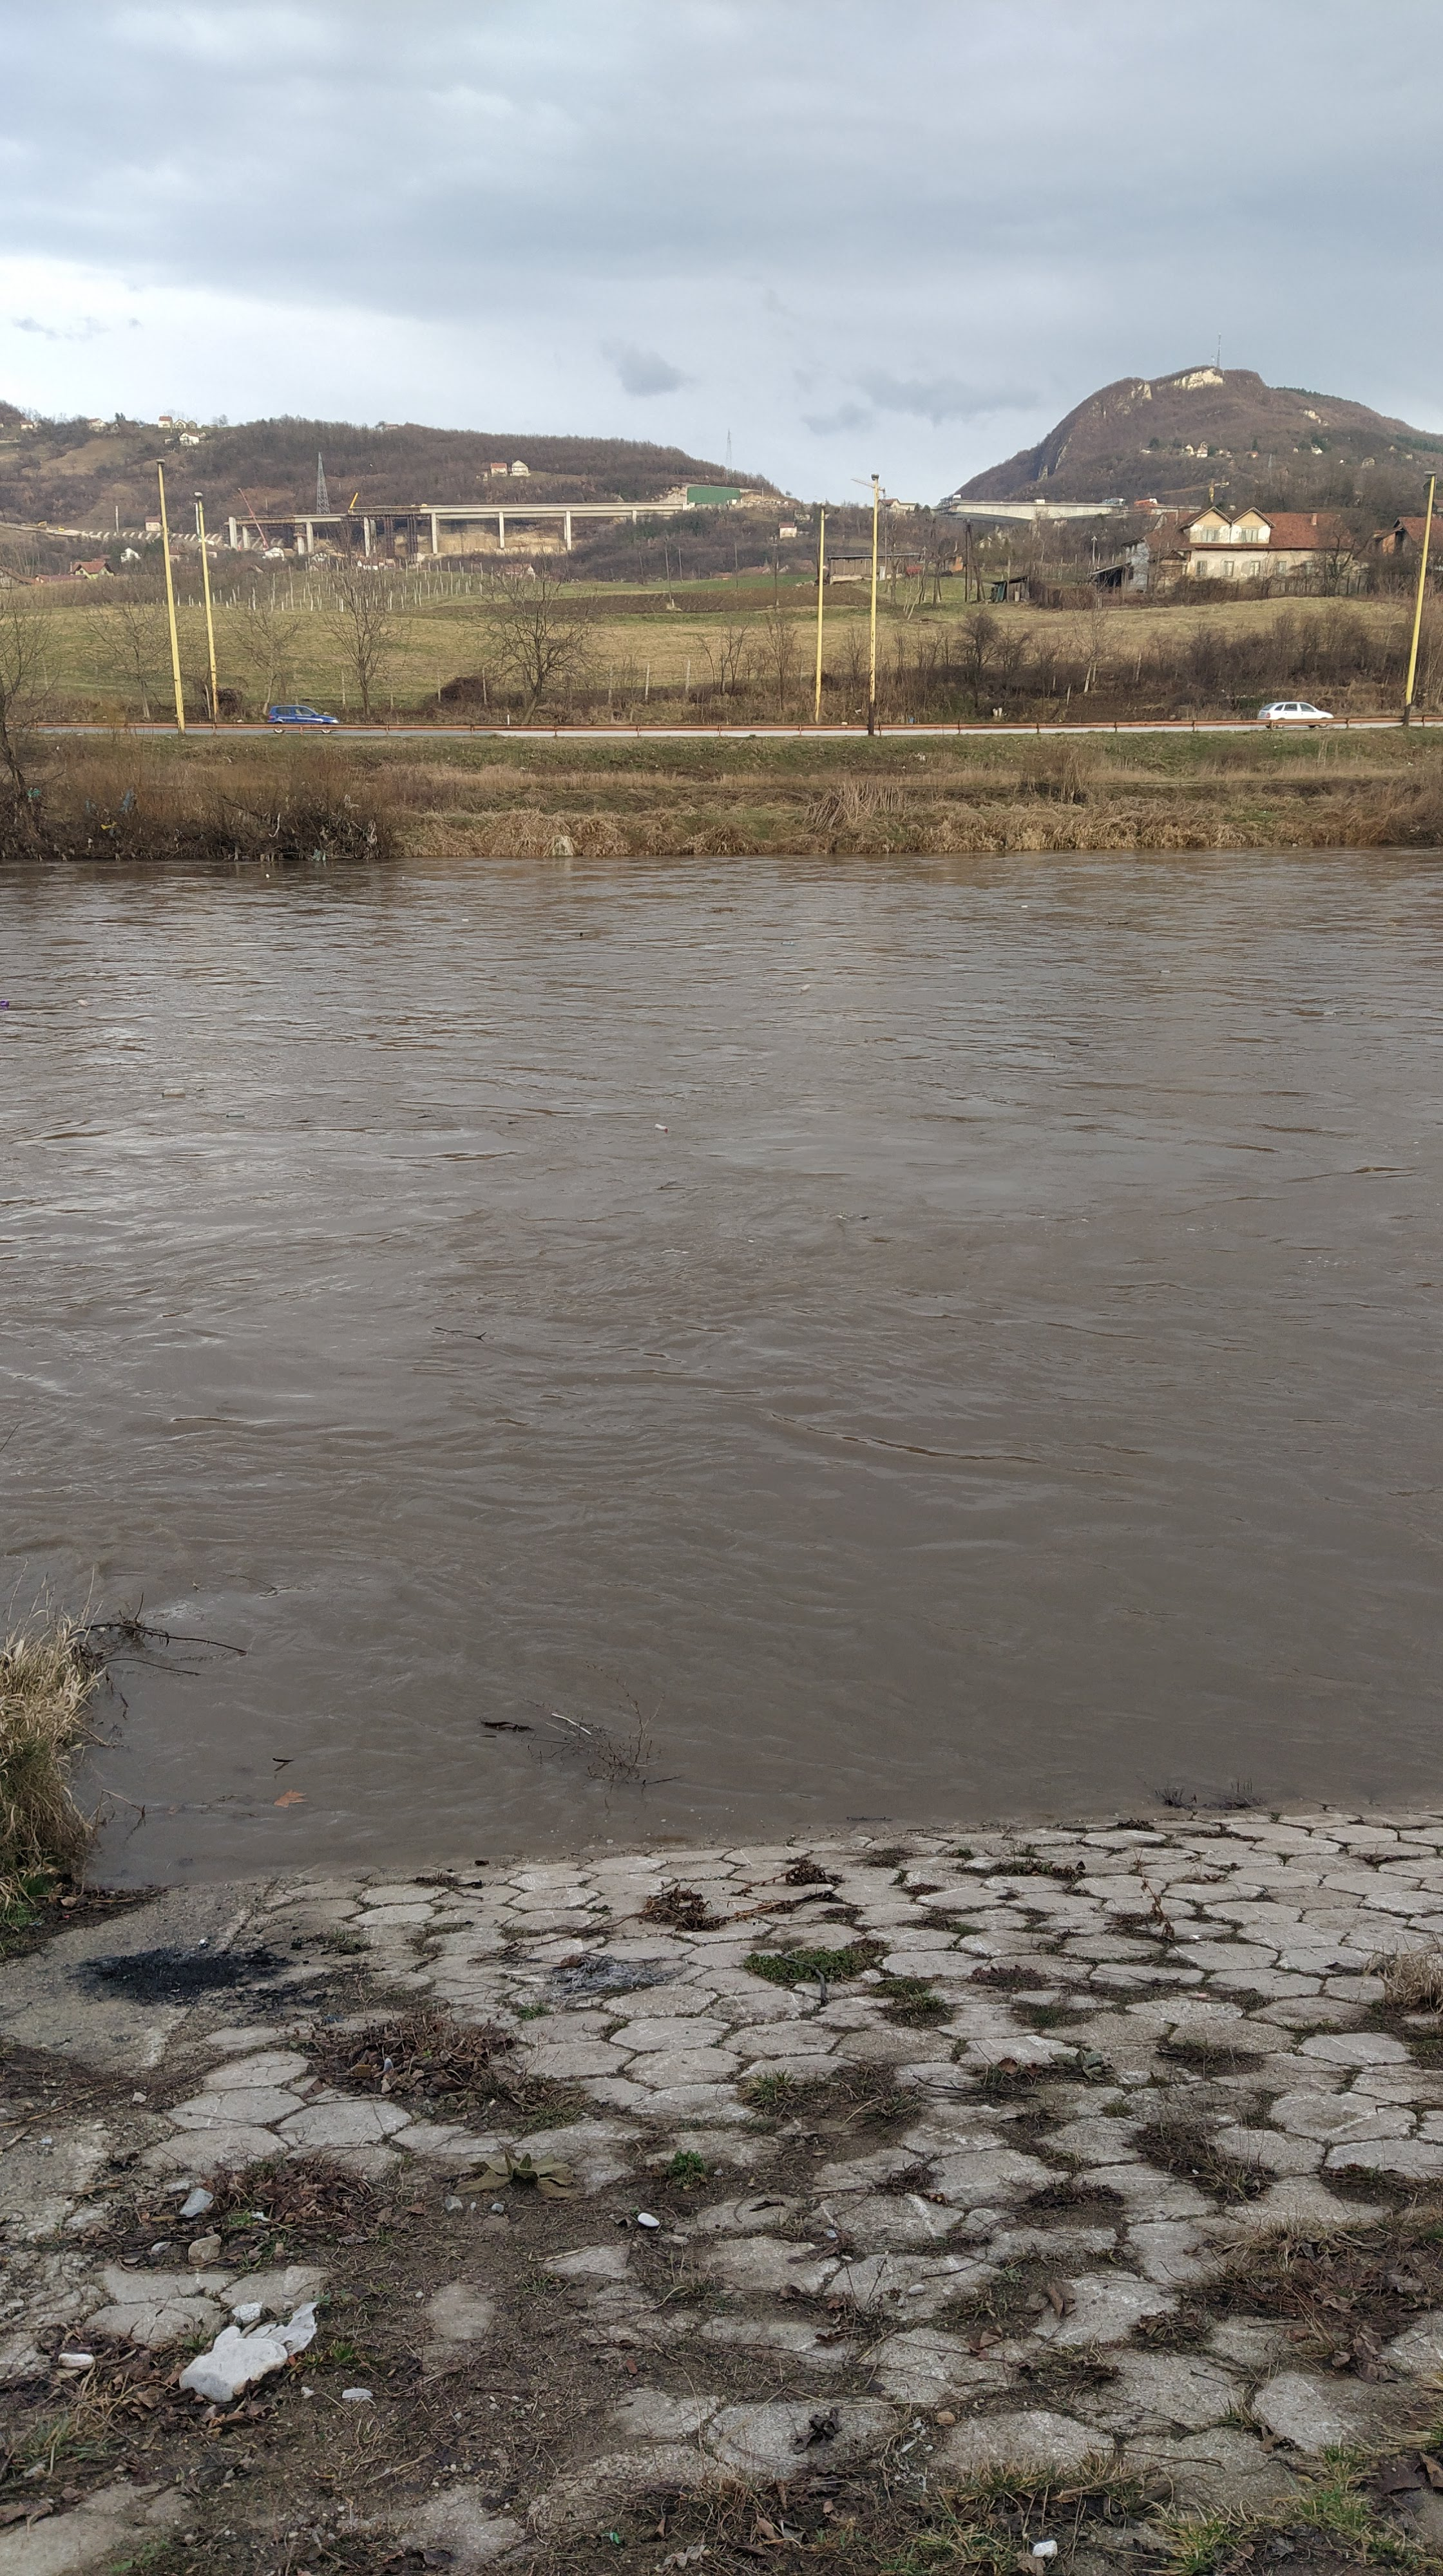Plastic Bottle: (161, 1086, 184, 1095), (653, 1123, 667, 1132), (227, 1113, 246, 1118), (1041, 1051, 1055, 1056), (78, 1000, 87, 1007), (0, 1000, 9, 1007), (1323, 1010, 1333, 1016), (802, 984, 809, 991), (783, 941, 793, 945), (1160, 970, 1169, 973), (1022, 904, 1027, 908), (462, 918, 467, 920)
